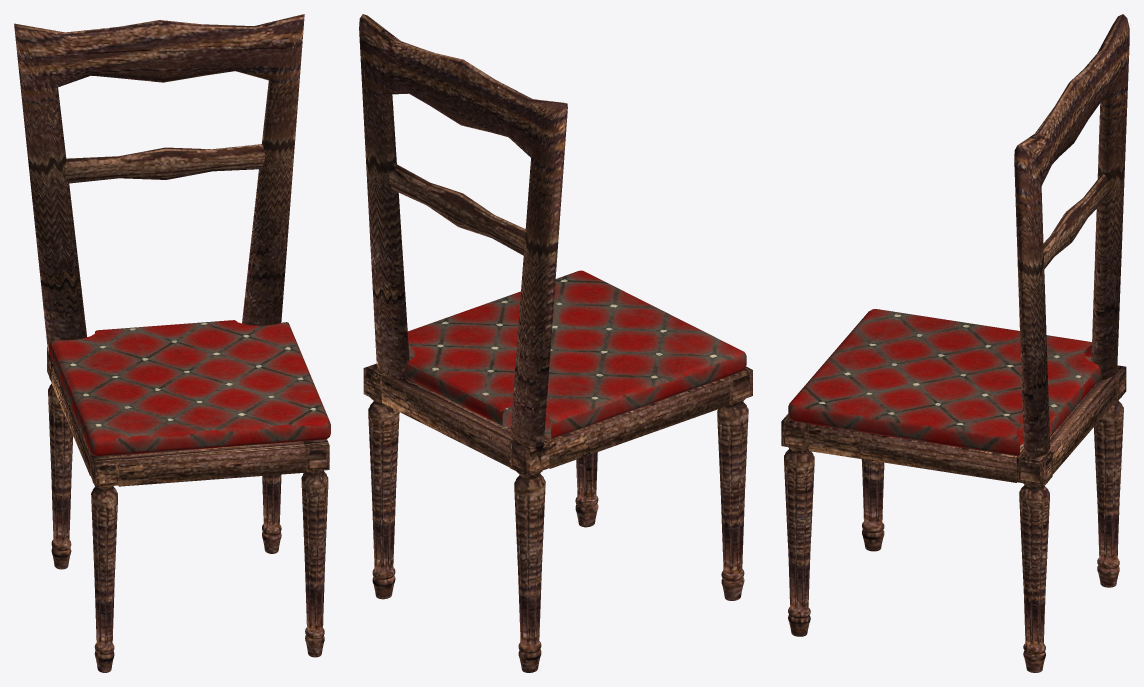
File: chair.fbx
3 views of the same model, side by side, from view 1: azimuth 30°, elevation 25°; view 2: azimuth 150°, elevation 25°; view 3: azimuth 270°, elevation 25° (orthographic). The views are drawn at different scales.
Parts seen in each view (by area): view 1: chair_1; view 2: chair_1; view 3: chair_1.
Part boxes in pixels (x1,y1,x2,y2): chair_1: [14, 14, 330, 672]; chair_1: [359, 14, 752, 672]; chair_1: [781, 14, 1129, 672].
Bounding box in the file's own units: 54.94 × 99.78 × 57.11.
Materials: 1 (1 with a texture image).
